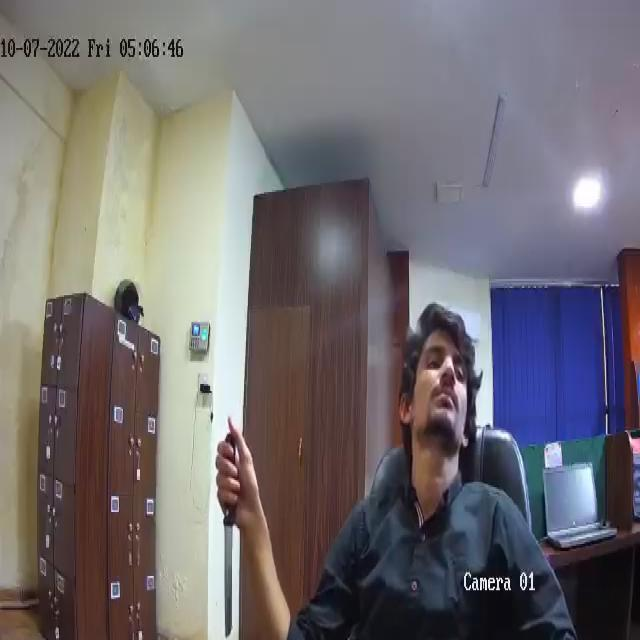Knife: (219, 432, 240, 640)
